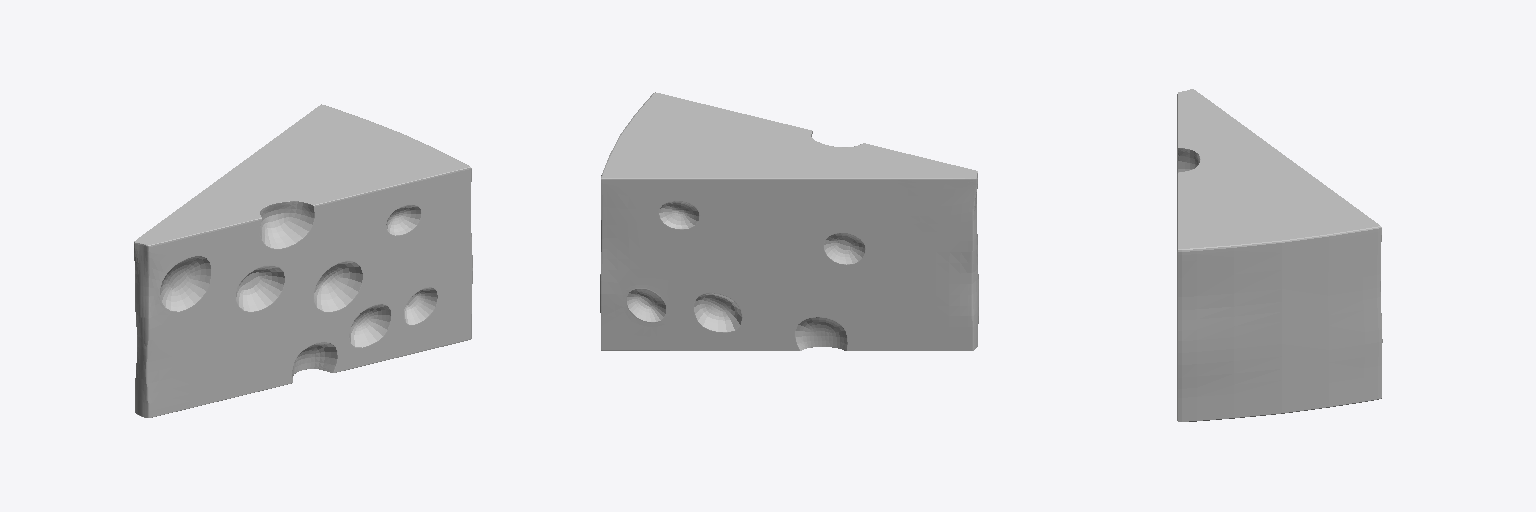
File: cheesetriangle.obj
3 renders of one model, left to right at view 1: azimuth 30°, elevation 25°; view 2: azimuth 150°, elevation 25°; view 3: azimuth 270°, elevation 25°, orthographic.
Parts seen in each view (by area): view 1: poct_cheese_body; view 2: poct_cheese_body; view 3: poct_cheese_body.
Part boxes in pixels (x1,y1,x2,y2): poct_cheese_body: (134,104,472,417); poct_cheese_body: (600,92,978,350); poct_cheese_body: (1177,89,1382,421).
Bounding box in the file's own units: 14.55 × 7.26 × 7.79.